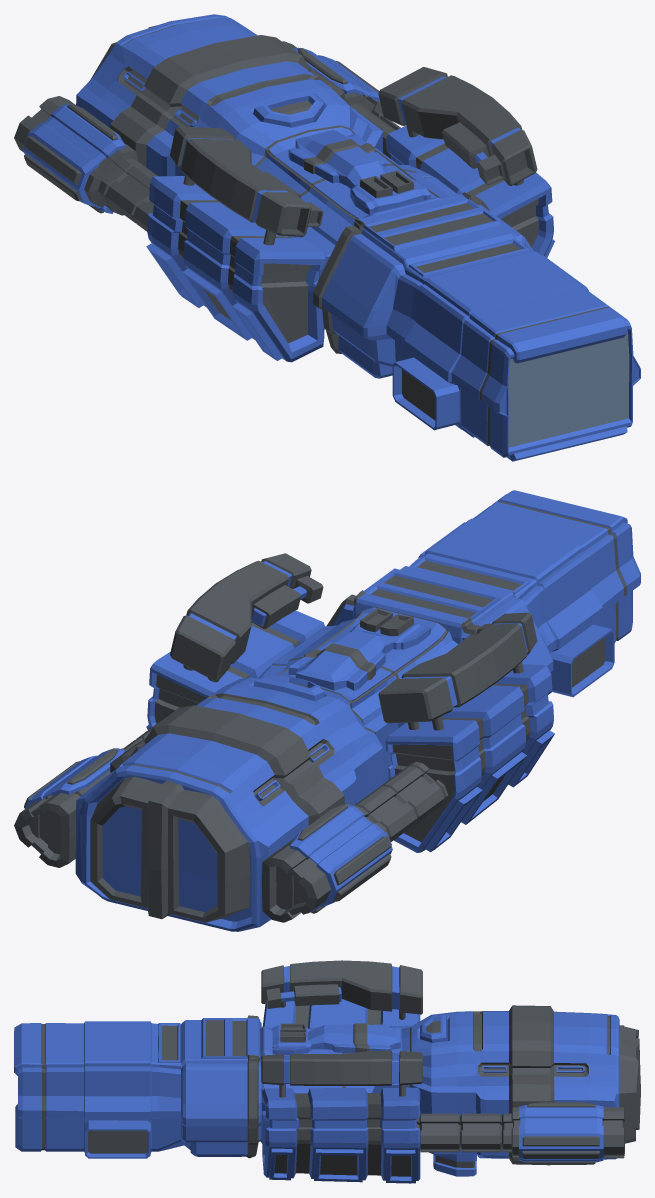
The model's file is Fighter_10_Blue.fbx.
3 renders of one model, top to bottom at view 1: azimuth 30°, elevation 25°; view 2: azimuth 150°, elevation 25°; view 3: azimuth 270°, elevation 25°, orthographic. The views are drawn at different scales.
Visible parts, largest first — view 1: Fighter_10_Blue; view 2: Fighter_10_Blue; view 3: Fighter_10_Blue.
Part boxes in pixels (left/top/right/bottom): Fighter_10_Blue: left=14, top=14, right=640, bottom=461; Fighter_10_Blue: left=14, top=490, right=640, bottom=931; Fighter_10_Blue: left=14, top=960, right=640, bottom=1183.
Size of the model in its own units: 1585 by 875 by 3605.
Materials: 3 (3 with a texture image).
